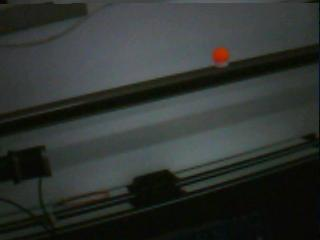oball: (213, 47, 230, 64)
